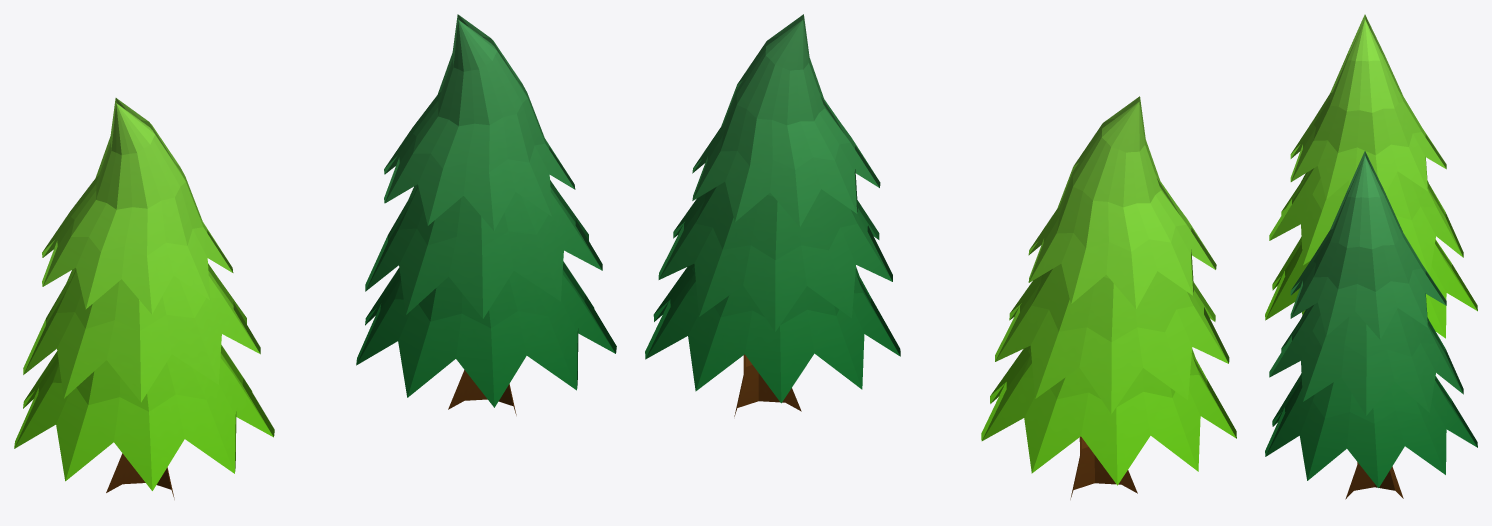
File: Pine Tree.glb
The picture shows the model from 3 angles, left to right: view 1: azimuth 30°, elevation 25°; view 2: azimuth 150°, elevation 25°; view 3: azimuth 270°, elevation 25°; orthographic projection. The views are drawn at different scales.
Visible parts, largest first — view 1: Tree1, Tree2; view 2: Tree1, Tree2; view 3: Tree1, Tree2.
Part boxes in pixels (<box>): Tree1: <box>356,14,616,415</box>; Tree2: <box>14,98,274,499</box>; Tree1: <box>645,14,900,416</box>; Tree2: <box>981,96,1236,499</box>; Tree1: <box>1265,151,1477,499</box>; Tree2: <box>1265,14,1477,338</box>.
Size of the model in its own units: 3.32 by 2.3 by 1.32.
1 material, 1 textured.
